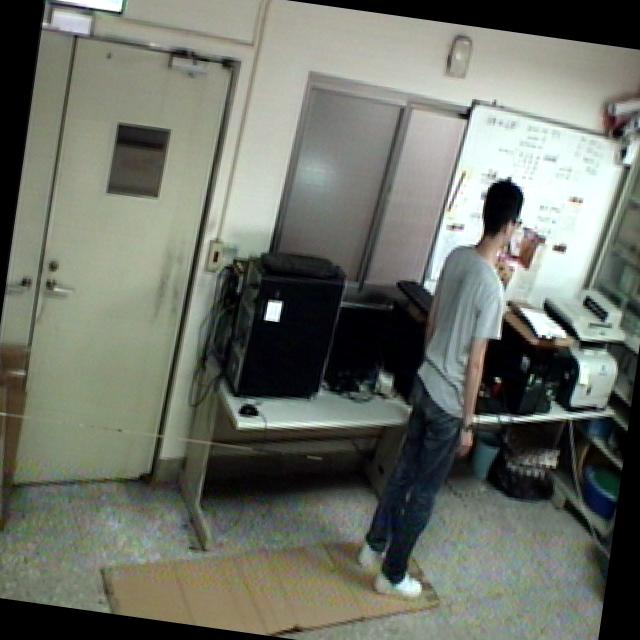stand: (343, 160, 531, 614)
